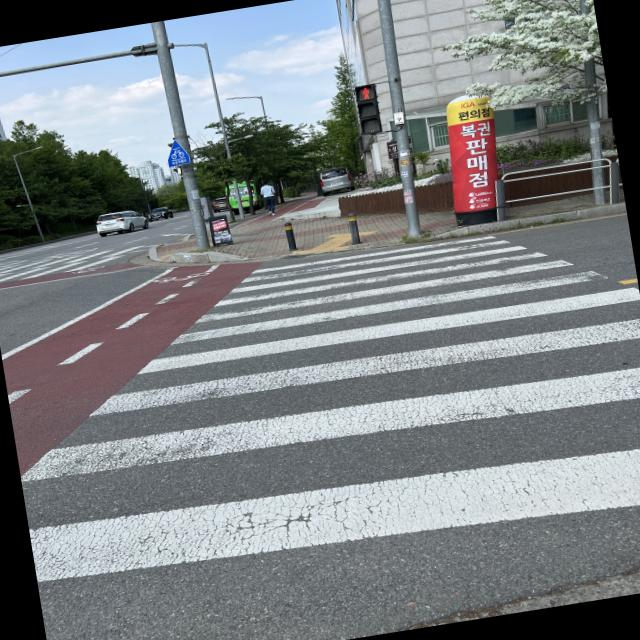red_light: (351, 85, 392, 144)
zebra: (80, 135, 640, 640)
